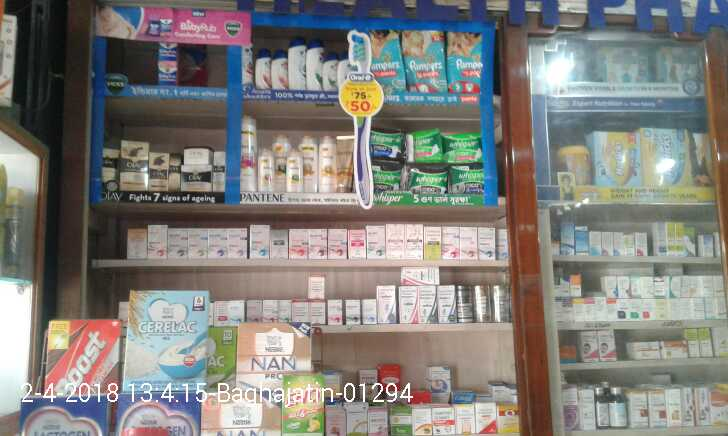vicks: (159, 62, 180, 84), (159, 42, 179, 60)
